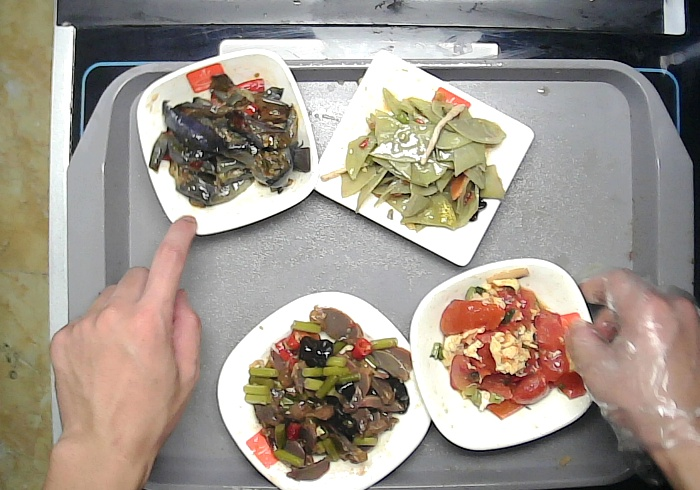SHKJ-Bai_Se_Cai_Die: (407, 258, 602, 453)
SHKJ-Bai_Se_Si_Fang_Cai_Die: (217, 286, 432, 490)
SHKJ-Bai_Se_Xiao_Fang_Die: (136, 45, 319, 236)
SHKJ-Si_Fang_Min: (315, 49, 536, 268)
